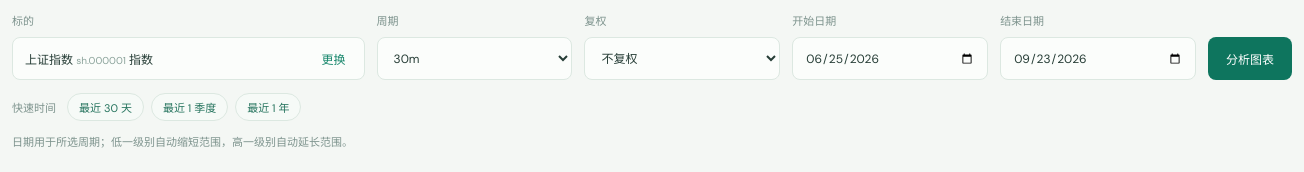
quick selections › fills rolling ranges without submitting
The width and height of the screenshot is (1304, 172).
Click the button with aria-label "最近30天" at (105, 106), box [67,92,144,120]
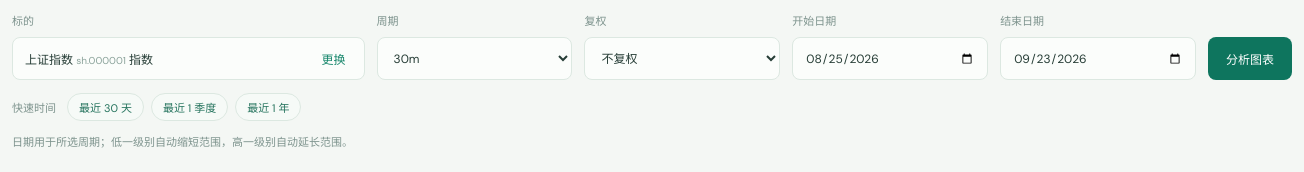
Expected: the date field named "end_time" holds "2026-09-23", [1000,37,1196,80]
Expected: the date field named "begin_time" holds "2026-08-25", [792,37,988,80]
Click the button with aria-label "最近1季度" at (190, 106), box [151,92,228,120]
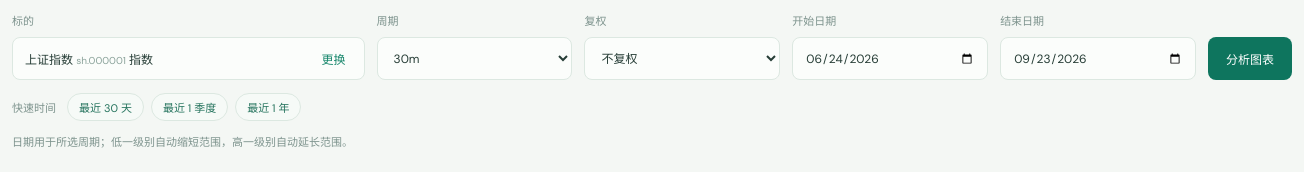
Expected: the date field named "begin_time" holds "2026-06-24", [792,37,988,80]
Click the button with aria-label "最近1年" at (268, 106), box [235,92,302,120]
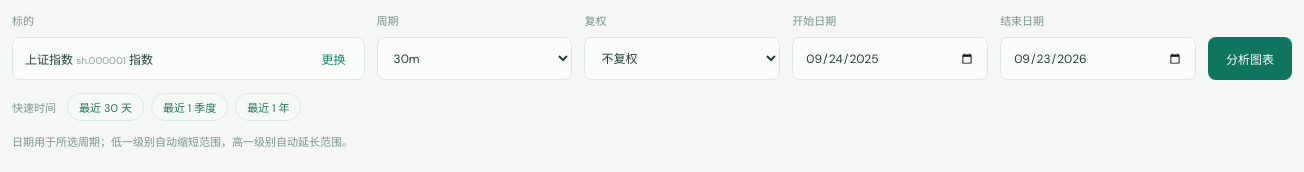
Expected: the date field named "begin_time" holds "2025-09-24", [792,37,988,80]
